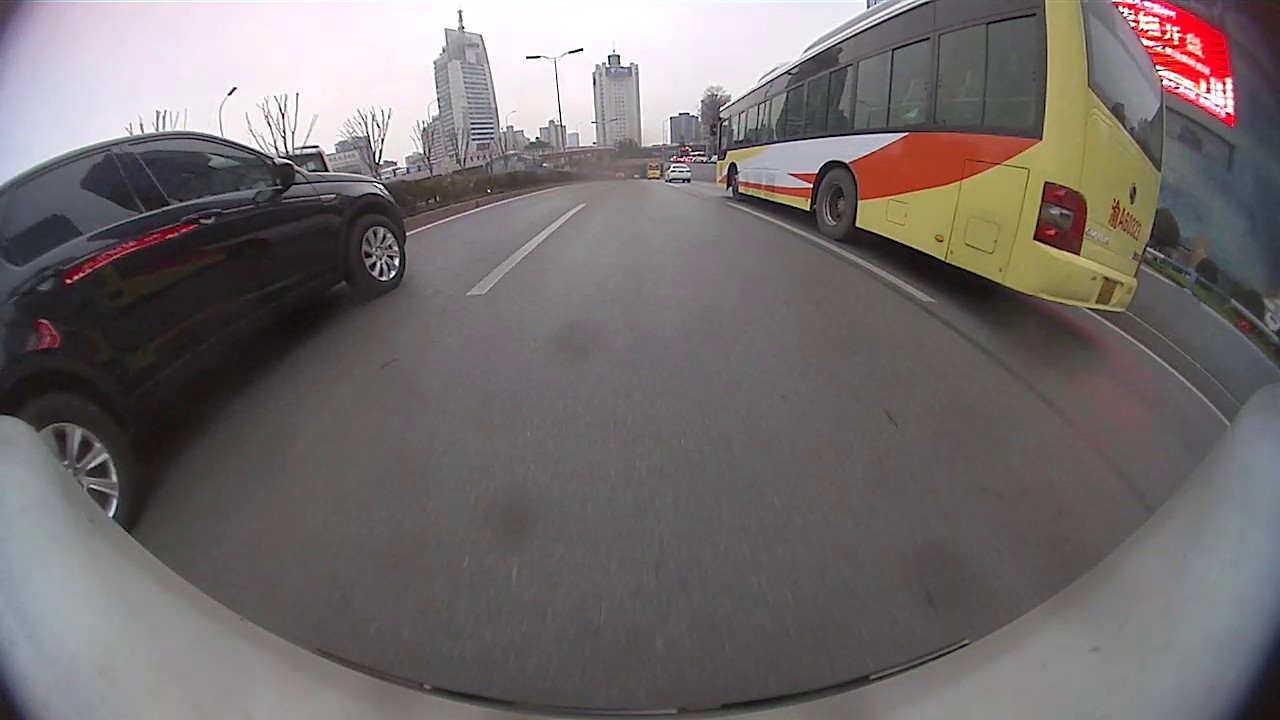bus: (709, 1, 1168, 316)
car: (1, 130, 410, 531), (661, 160, 695, 185)
front: (346, 211, 411, 297)
rear: (14, 394, 137, 538), (809, 160, 860, 242)
